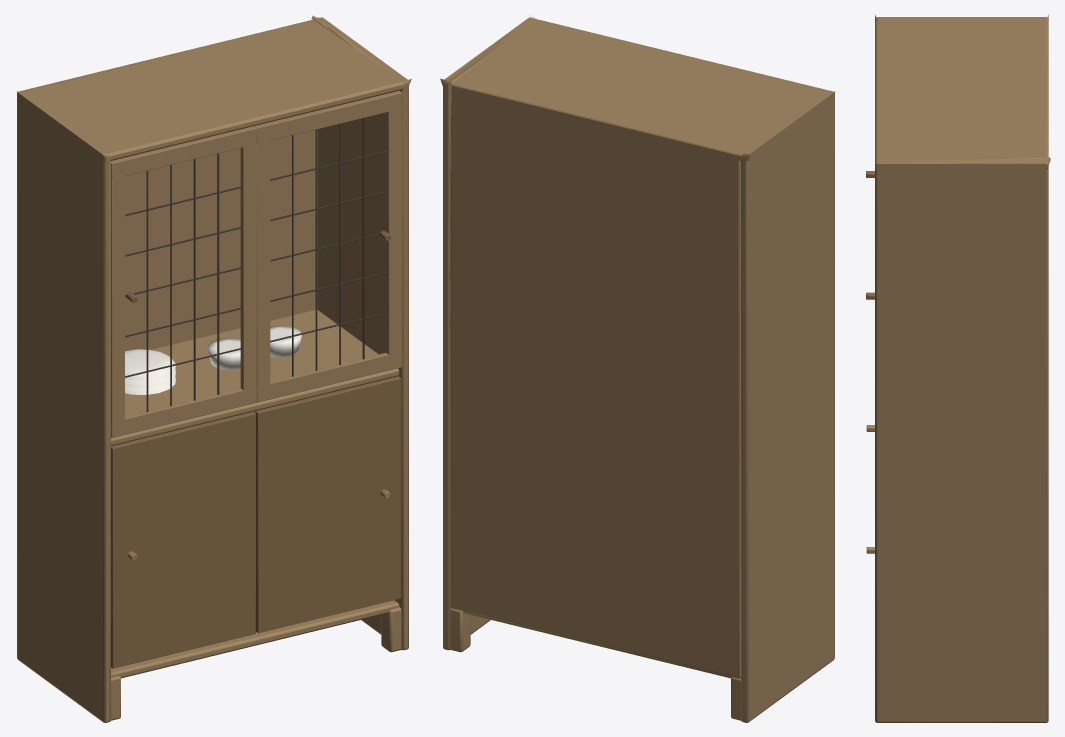
Rendered from Chan_BatDiaTrongChan.glb.
The picture shows the model from 3 angles, left to right: view 1: azimuth 30°, elevation 25°; view 2: azimuth 150°, elevation 25°; view 3: azimuth 270°, elevation 25°; orthographic projection.
Visible parts, largest first — view 1: Chan; view 2: Chan; view 3: Chan.
Boxes of the visible parts, x1=… form: Chan: x1=17, y1=15, x2=411, y2=722; Chan: x1=440, y1=16, x2=835, y2=722; Chan: x1=866, y1=14, x2=1050, y2=722.
Size of the model in its own units: 0.912 by 1.61 by 0.479.
